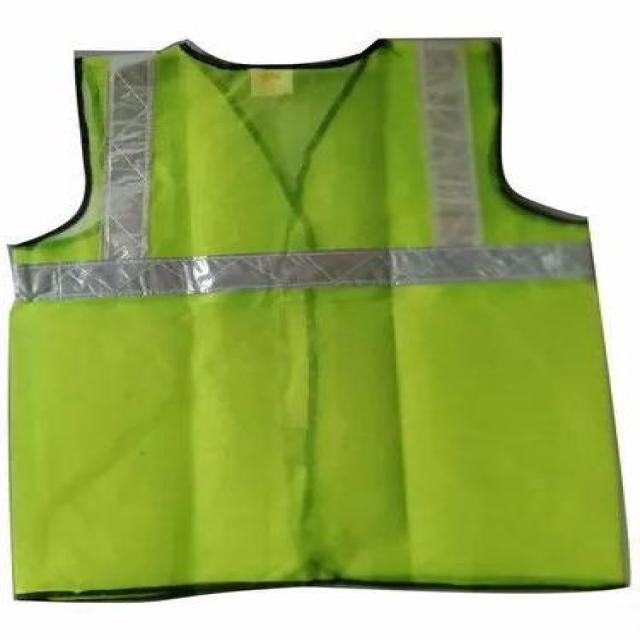Reflective-Jacket: (1, 19, 640, 624)
